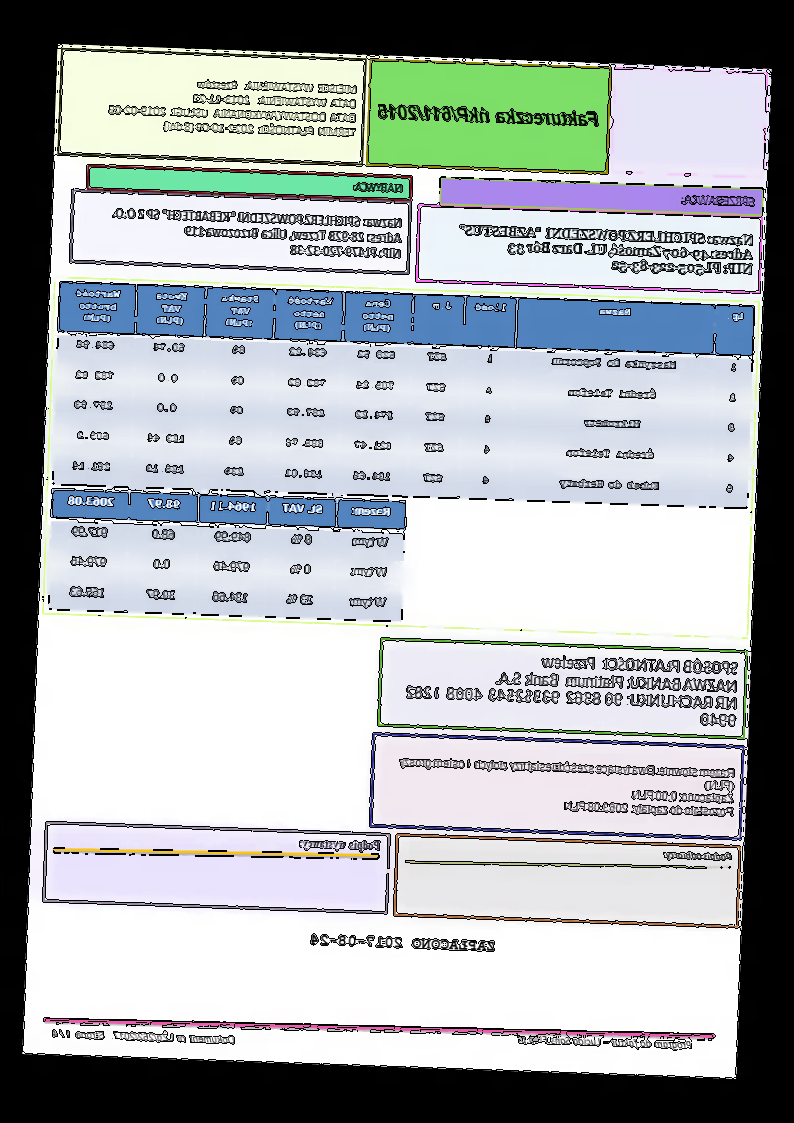Table: (50, 279, 757, 511), (45, 486, 410, 623)
TextBox: (399, 644, 742, 732), (391, 752, 738, 821), (457, 218, 757, 282), (101, 70, 361, 143), (105, 202, 406, 265), (374, 97, 602, 133), (47, 1023, 241, 1052), (307, 930, 498, 956), (513, 1029, 697, 1055), (296, 832, 385, 859), (679, 188, 760, 212), (662, 844, 739, 868), (350, 177, 407, 198)
